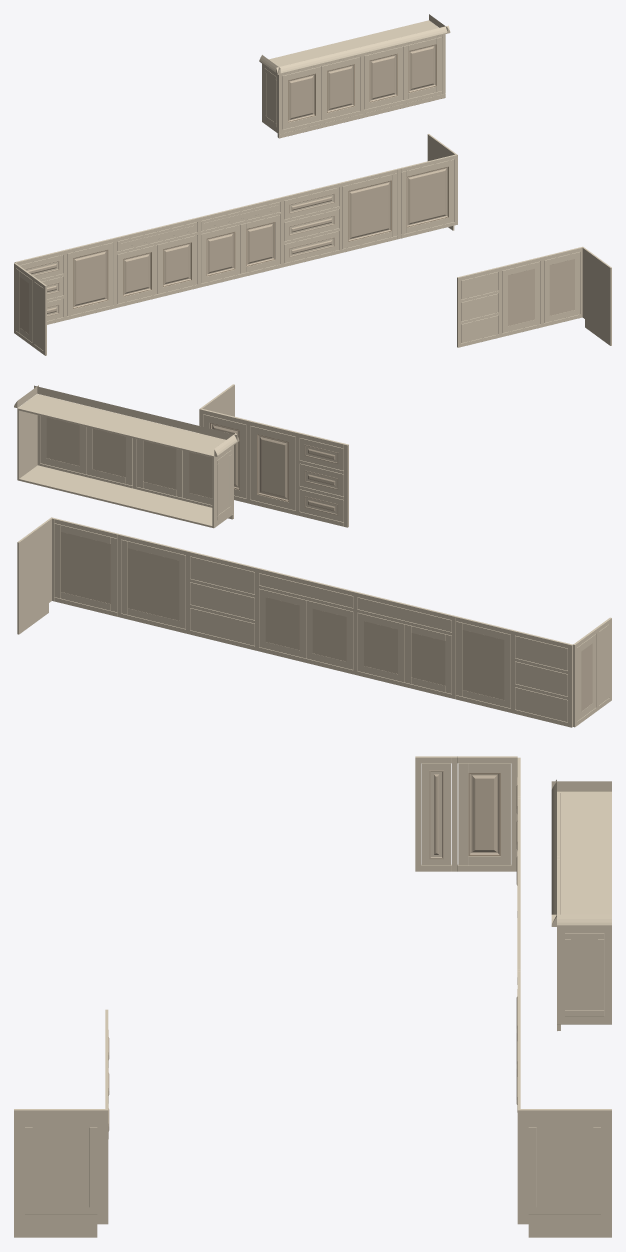
File: kitchen-joinery.glb
3 views of the same model, one above another, from view 1: azimuth 30°, elevation 25°; view 2: azimuth 150°, elevation 25°; view 3: azimuth 270°, elevation 25° (orthographic). The views are drawn at different scales.
Visible parts, largest first — view 1: Kitchen frame, Kitchen panel, Kitchen bead; view 2: Kitchen frame, Kitchen panel; view 3: Kitchen frame, Kitchen panel.
Part boxes in pixels (x1,y1,x2,y2): Kitchen frame: (14,14,611,355); Kitchen panel: (19,45,574,334); Kitchen bead: (73,44,448,308); Kitchen frame: (14,384,611,727); Kitchen panel: (46,417,592,711); Kitchen frame: (14,756,611,1237); Kitchen panel: (108,770,517,1138).
Size of the model in its own units: 5.35 by 2.27 by 3.8.
